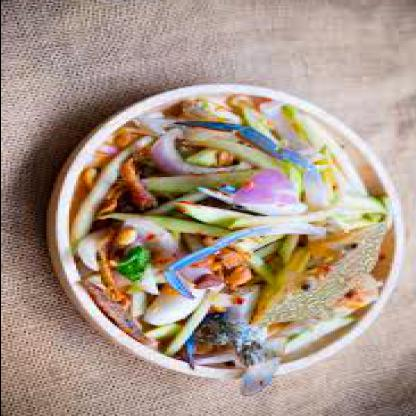Papaya Salad: (56, 87, 384, 379)
